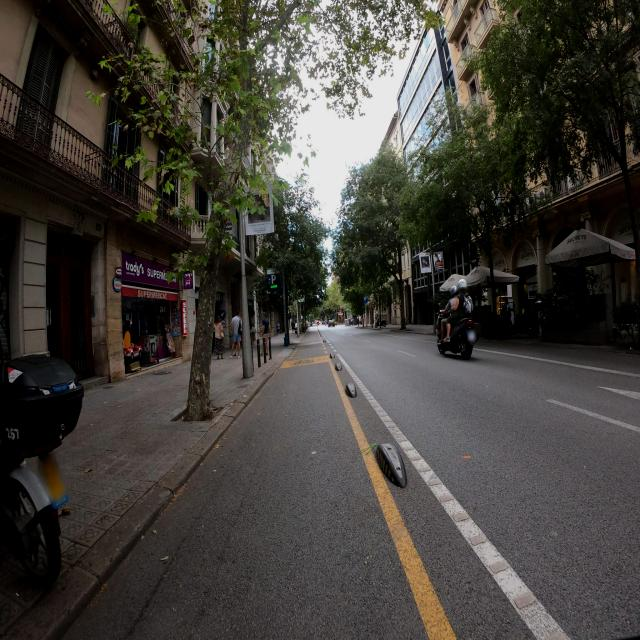bike: (0, 305, 72, 596), (0, 387, 71, 591), (436, 304, 476, 359)
car: (327, 318, 336, 327)
